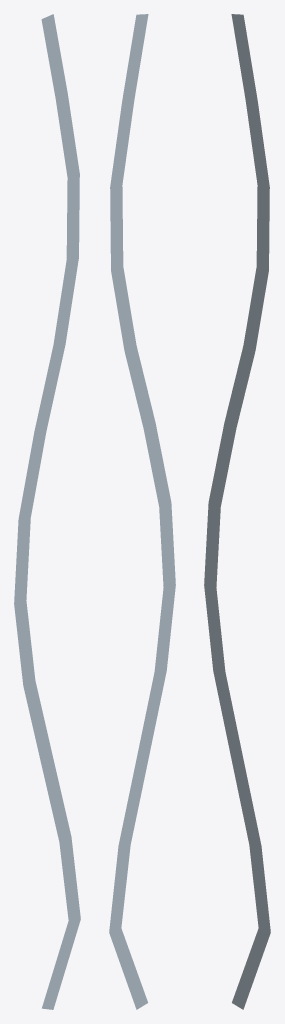
Rendered from 2065_Clap_ClampArc1.fbx.
3 views of the same model, side by side, from view 1: azimuth 30°, elevation 25°; view 2: azimuth 210°, elevation 25°; view 3: azimuth 330°, elevation 25° (orthographic).
Parts seen in each view (by area): view 1: PART_ClampArc1; view 2: PART_ClampArc1; view 3: PART_ClampArc1.
Boxes of the visible parts, bbox=[...] form: PART_ClampArc1: bbox=[14, 14, 80, 1009]; PART_ClampArc1: bbox=[109, 14, 175, 1009]; PART_ClampArc1: bbox=[204, 14, 270, 1009].
Bounding box in the file's own units: 19.44 × 277 × 4.51e-05.
